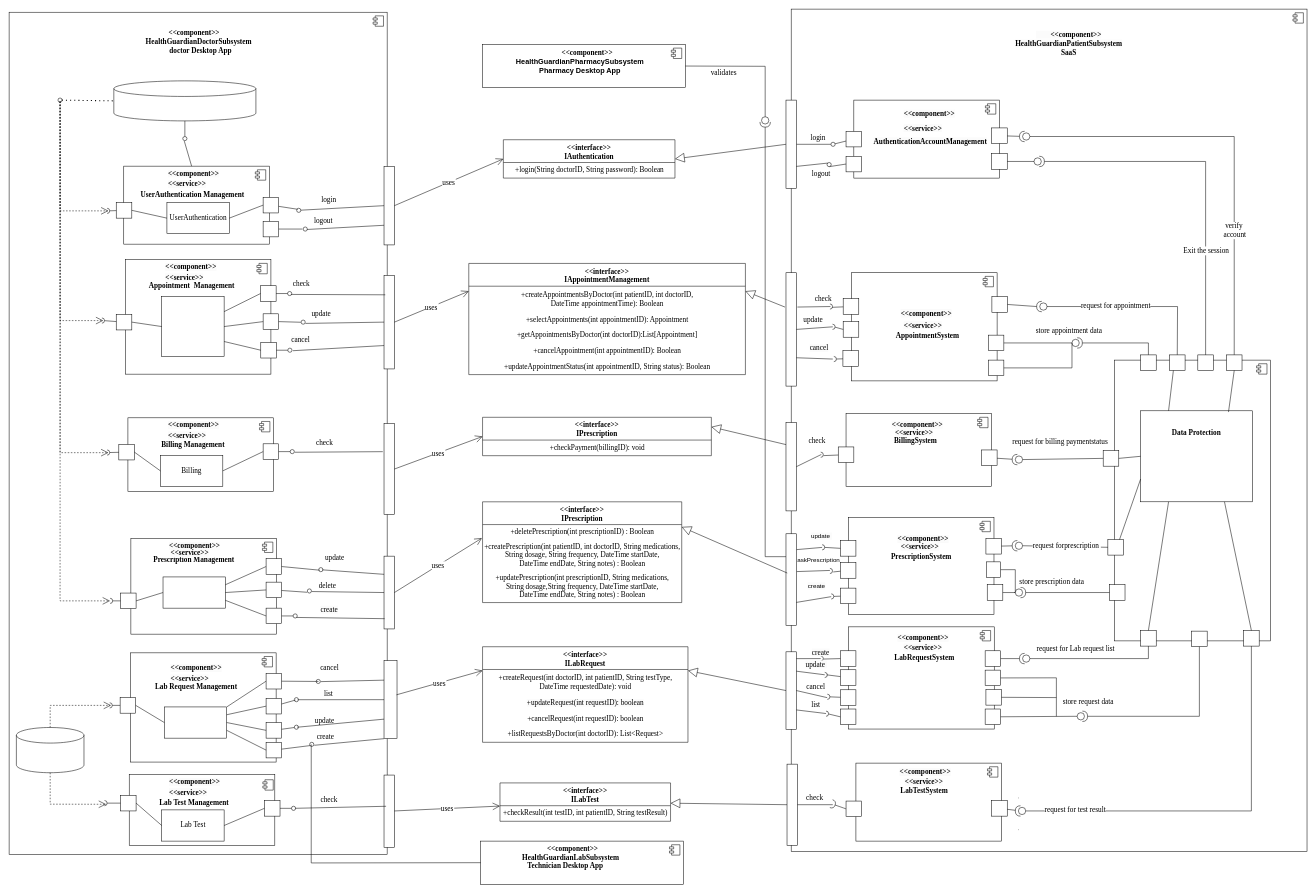
Image size: 1316x893. Some labels were removed from this diagram. The box of each missing label's shape, as (x1, y1, x2, y2) in pixels:
Appointment: (161, 296, 224, 356)
doctor data: (113, 80, 256, 121)
Lab data: (16, 727, 84, 773)
Lab Request: (164, 706, 227, 738)
Prescription: (162, 576, 225, 608)
«component» «service» data management: (1114, 360, 1271, 641)
